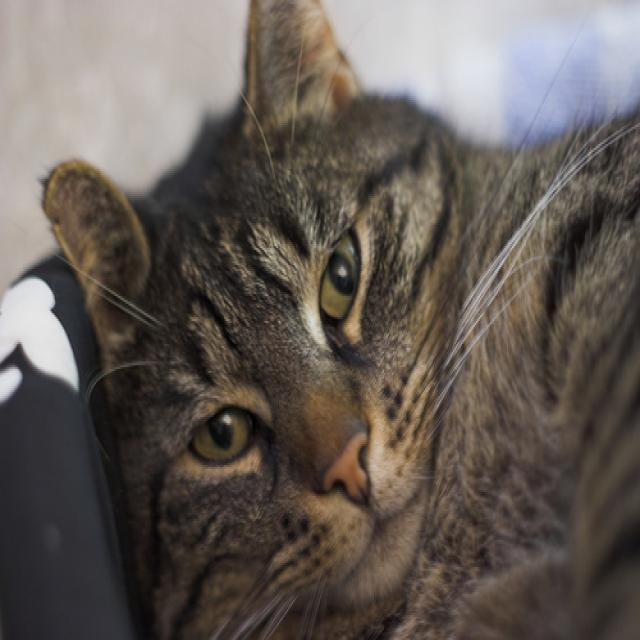left eye: (316, 225, 362, 329)
